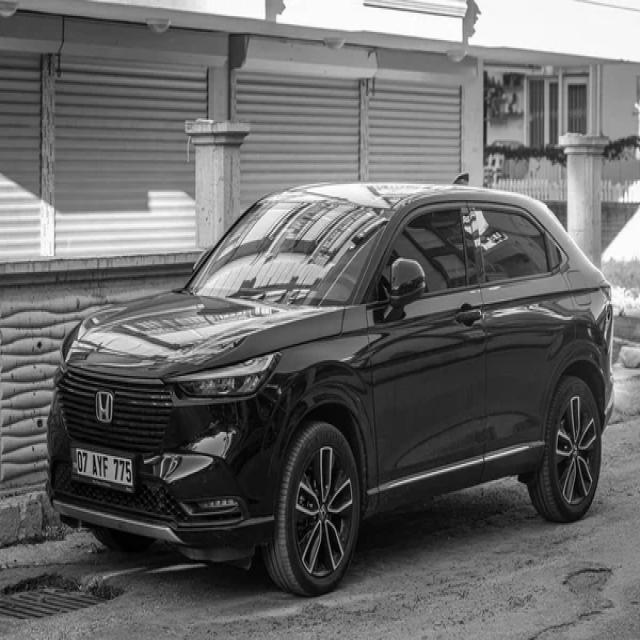Car: (48, 182, 615, 597)
